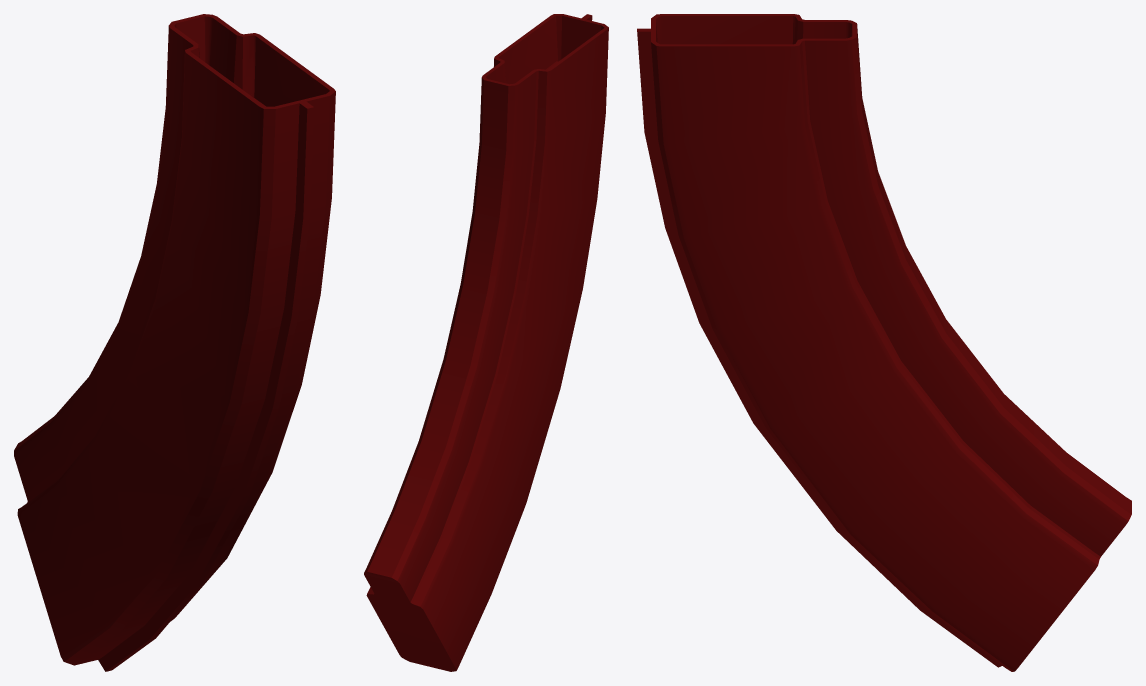
Rendered from Ak47M1_Magazine_Empty.FBX.
3 views of the same model, side by side, from view 1: azimuth 30°, elevation 25°; view 2: azimuth 150°, elevation 25°; view 3: azimuth 270°, elevation 25° (orthographic). The views are drawn at different scales.
Parts seen in each view (by area): view 1: Ak47_Magazine; view 2: Ak47_Magazine; view 3: Ak47_Magazine.
Boxes of the visible parts, x1,y1,x2,y2 form: Ak47_Magazine: (14,14,335,671); Ak47_Magazine: (364,14,608,671); Ak47_Magazine: (637,14,1131,671).
Bounding box in the file's own units: 2.2 × 20.1 × 14.17.
